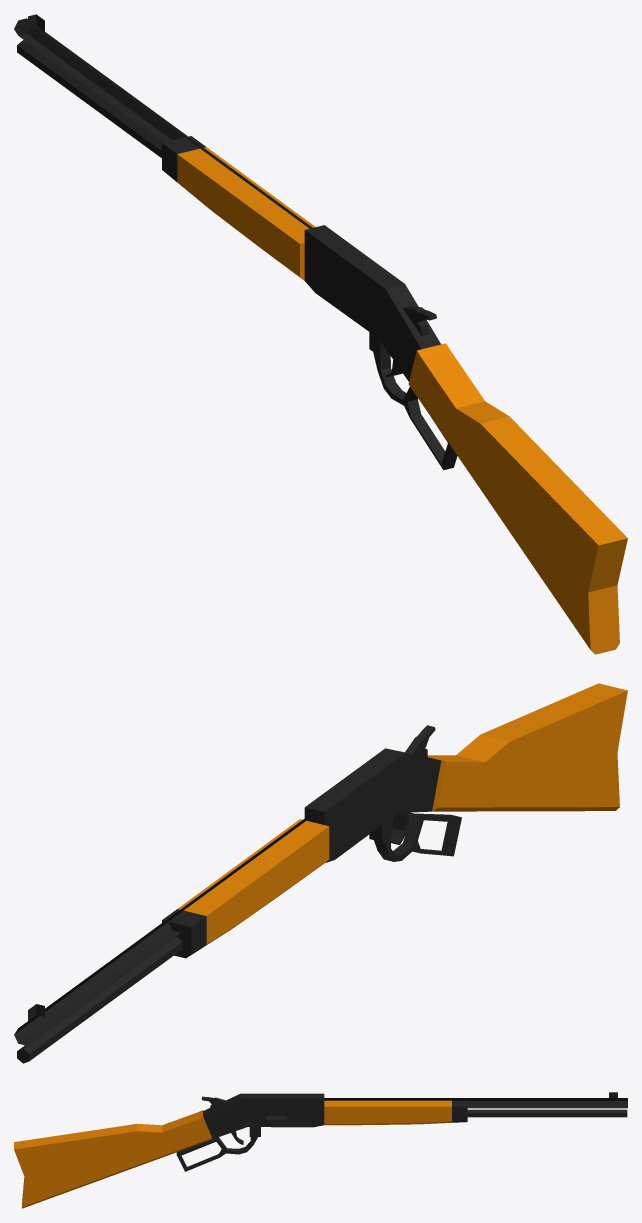
3 views of the same model, one above another, from view 1: azimuth 30°, elevation 25°; view 2: azimuth 150°, elevation 25°; view 3: azimuth 270°, elevation 25° (orthographic). The views are drawn at different scales.
Visible parts, largest first — view 1: Stock, Receiver, Grip, Barrel, Tube, Lever; view 2: Stock, Grip, Receiver, Barrel, Tube, Lever; view 3: Stock, Receiver, Grip, Barrel, Tube, Lever, Hammer.
Boxes of the visible parts, bbox=[...] form: Stock: bbox=[408, 343, 627, 654]; Receiver: bbox=[304, 225, 441, 381]; Grip: bbox=[162, 136, 315, 280]; Barrel: bbox=[14, 14, 312, 228]; Tube: bbox=[17, 40, 163, 157]; Lever: bbox=[373, 352, 457, 470]; Stock: bbox=[427, 683, 627, 811]; Grip: bbox=[162, 819, 329, 958]; Receiver: bbox=[304, 748, 441, 862]; Barrel: bbox=[14, 815, 309, 1045]; Tube: bbox=[17, 936, 182, 1063]; Lever: bbox=[374, 813, 461, 861]; Stock: bbox=[14, 1110, 212, 1208]; Receiver: bbox=[203, 1093, 324, 1138]; Grip: bbox=[324, 1100, 467, 1125]; Barrel: bbox=[324, 1092, 627, 1108]; Tube: bbox=[467, 1109, 627, 1117]; Lever: bbox=[176, 1137, 257, 1171]; Hammer: bbox=[201, 1096, 227, 1111].
Size of the model in its own units: 0.1304 by 0.9228 by 4.55.
